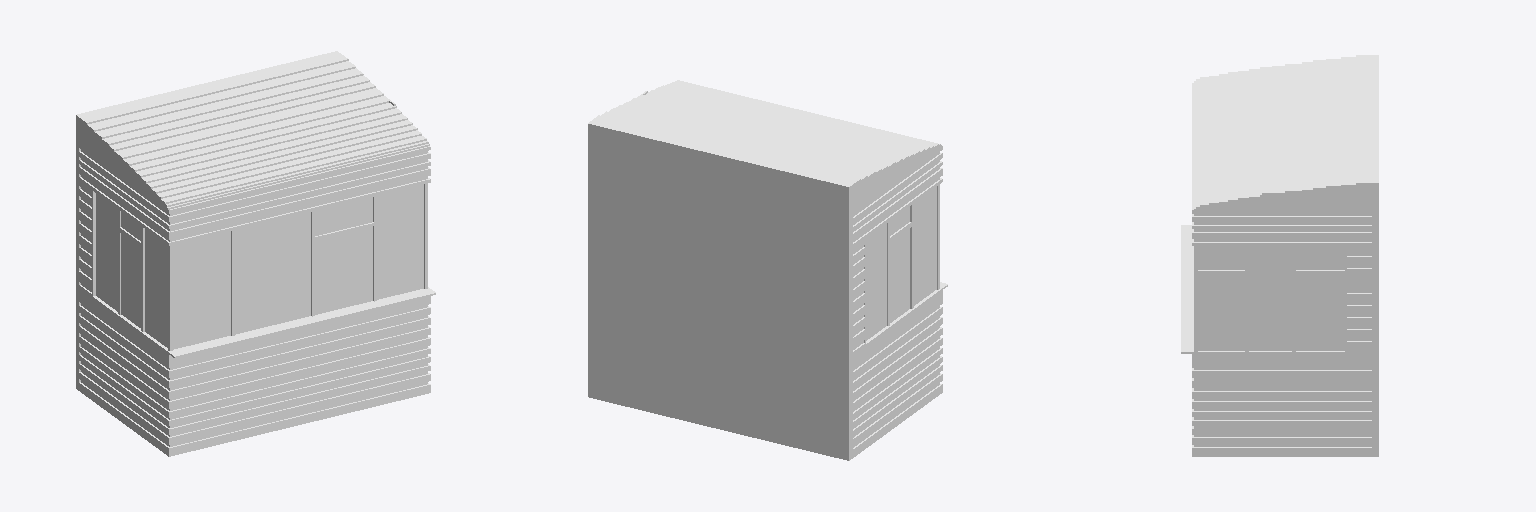
File: balcony3-2-lod1.obj
3 renders of one model, left to right at view 1: azimuth 30°, elevation 25°; view 2: azimuth 150°, elevation 25°; view 3: azimuth 270°, elevation 25°, orthographic.
Visible parts, largest first — view 1: lod1; view 2: lod1; view 3: lod1.
Part boxes in pixels (bbox=[...]): lod1: bbox=[76, 51, 435, 456]; lod1: bbox=[588, 80, 947, 460]; lod1: bbox=[1181, 55, 1378, 456].
Size of the model in its own units: 16 by 16 by 10.5.